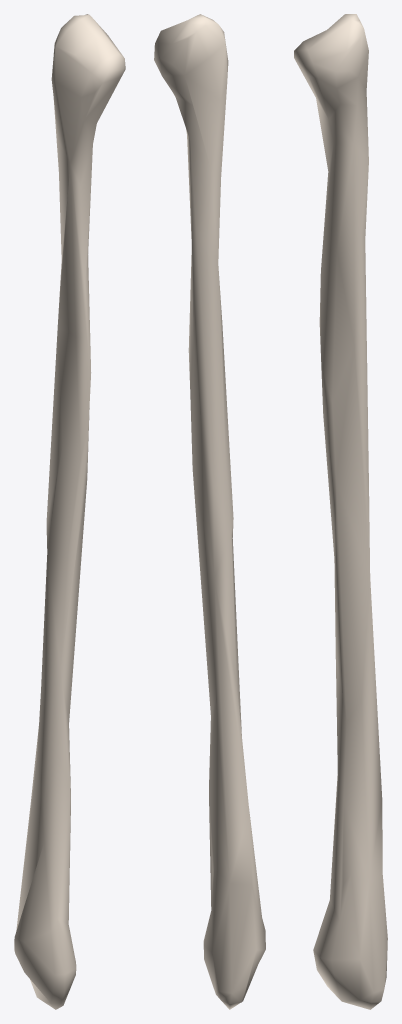
The model's file is left_fibula.glb.
3 views of the same model, side by side, from view 1: azimuth 30°, elevation 25°; view 2: azimuth 210°, elevation 25°; view 3: azimuth 270°, elevation 25° (orthographic).
Parts seen in each view (by area): view 1: Fibula.r; view 2: Fibula.r; view 3: Fibula.r.
Part boxes in pixels (x1,y1,x2,y2): Fibula.r: [14, 14, 125, 1009]; Fibula.r: [154, 14, 265, 1009]; Fibula.r: [294, 14, 387, 1009].
Size of the model in its own units: 0.0329 by 0.3637 by 0.0308.
